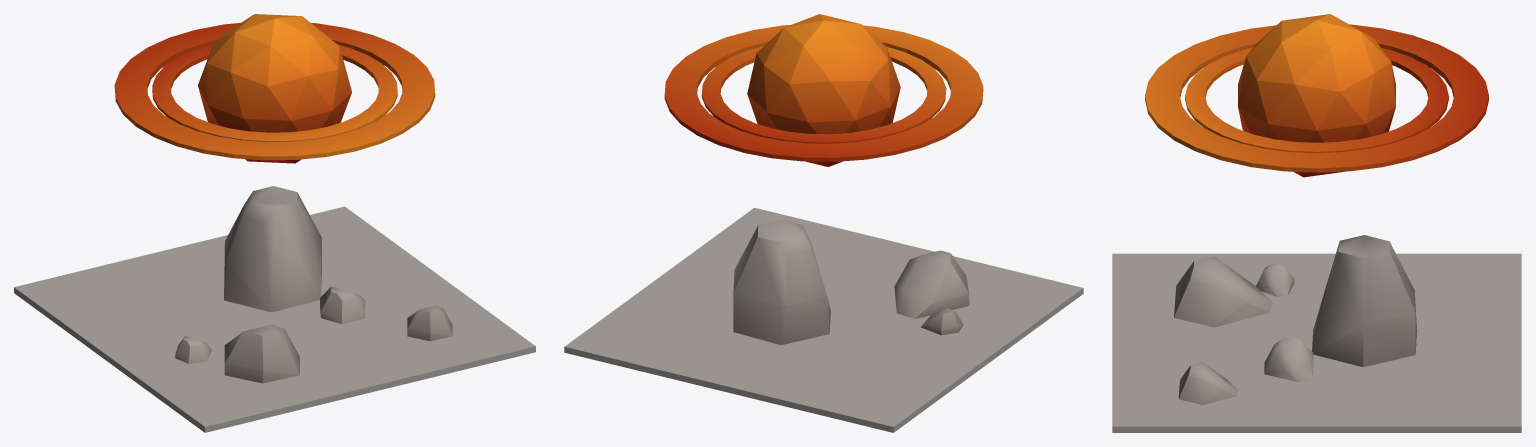
Rendered from saturn.glb.
The picture shows the model from 3 angles, left to right: view 1: azimuth 30°, elevation 25°; view 2: azimuth 150°, elevation 25°; view 3: azimuth 270°, elevation 25°; orthographic projection. The views are drawn at different scales.
Parts seen in each view (by area): view 1: Saturn; view 2: Saturn; view 3: Saturn.
Part boxes in pixels (left/top/right/bottom): Saturn: left=14, top=14, right=535, bottom=432; Saturn: left=564, top=14, right=1083, bottom=432; Saturn: left=1112, top=14, right=1521, bottom=432.
Bounding box in the file's own units: 0.58 × 0.5097 × 0.58.
1 material, 1 textured.
